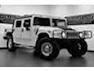car: (4, 15, 94, 63)
